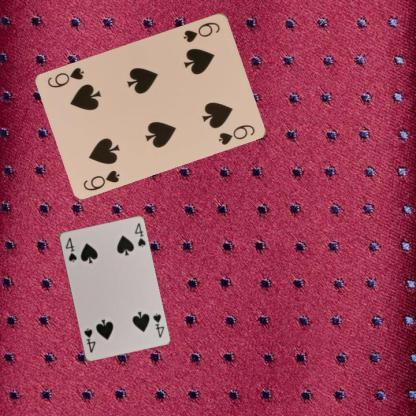4s: (63, 234, 78, 263), (150, 311, 165, 338)
6s: (180, 18, 222, 44), (80, 167, 122, 192)
